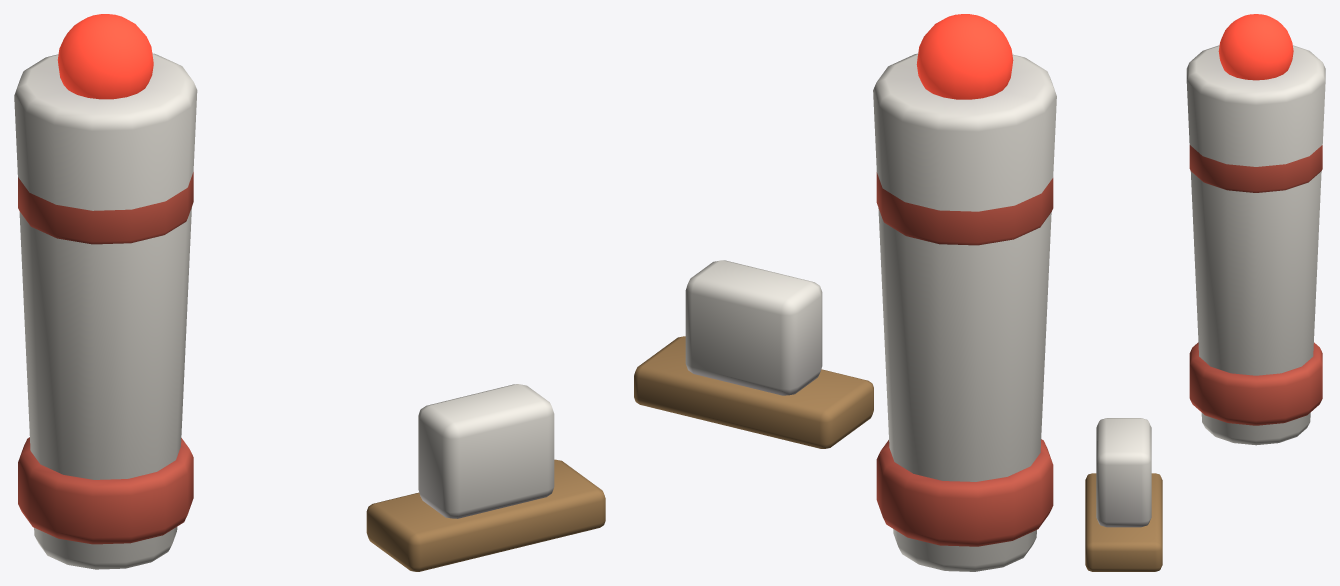
3 renders of one model, left to right at view 1: azimuth 30°, elevation 25°; view 2: azimuth 150°, elevation 25°; view 3: azimuth 270°, elevation 25°, orthographic. The views are drawn at different scales.
Visible parts, largest first — view 1: landmark_552d2624; view 2: landmark_552d2624; view 3: landmark_552d2624.
Boxes of the visible parts, x1,y1,x2,y2 form: landmark_552d2624: (14, 14, 605, 571); landmark_552d2624: (634, 14, 1056, 571); landmark_552d2624: (1085, 14, 1325, 571).
Bounding box in the file's own units: 3.85 × 4.09 × 2.18.
